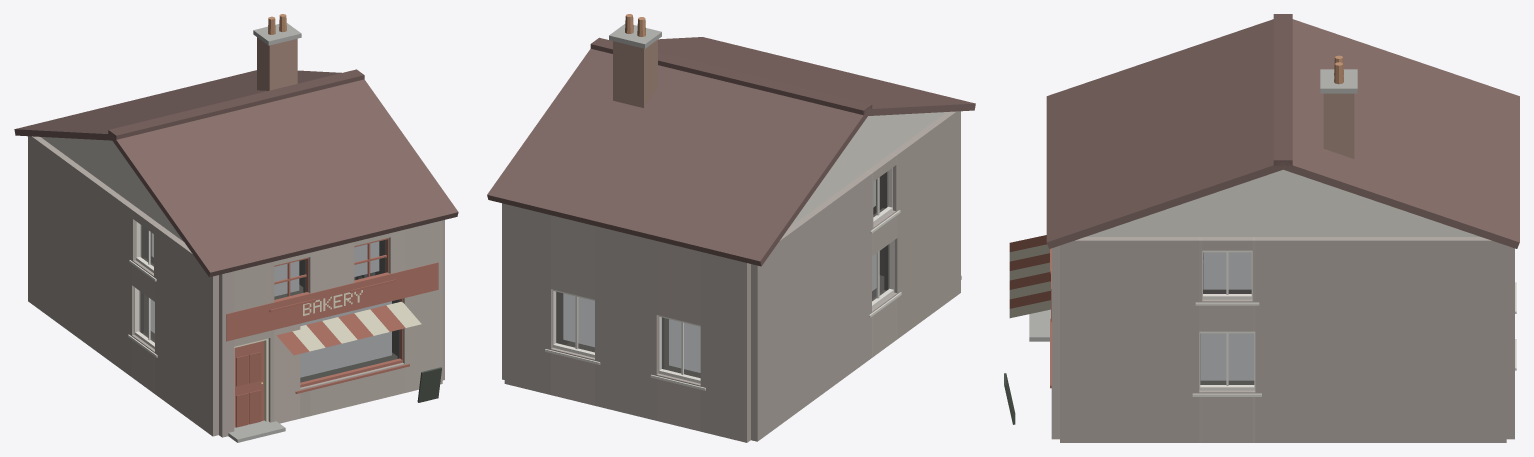
File: town_bakery_a.glb
The picture shows the model from 3 angles, left to right: view 1: azimuth 30°, elevation 25°; view 2: azimuth 150°, elevation 25°; view 3: azimuth 270°, elevation 25°; orthographic projection. The views are drawn at different scales.
Visible parts, largest first — view 1: body, window_light; view 2: body, window_light; view 3: body, window_light.
Boxes of the visible parts, x1,y1,x2,y2 form: body: [14, 14, 458, 442]; window_light: [150, 233, 391, 377]; body: [487, 14, 975, 442]; window_light: [563, 180, 876, 372]; body: [1004, 14, 1519, 442]; window_light: [1200, 252, 1254, 380].
Size of what is drawn, in the model's own units: 6.2 by 7 by 9.24.
